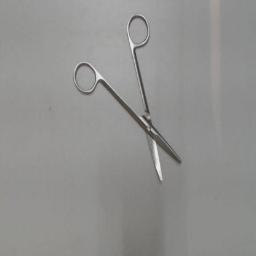Curved Mayo Scissors: (71, 8, 183, 186)
